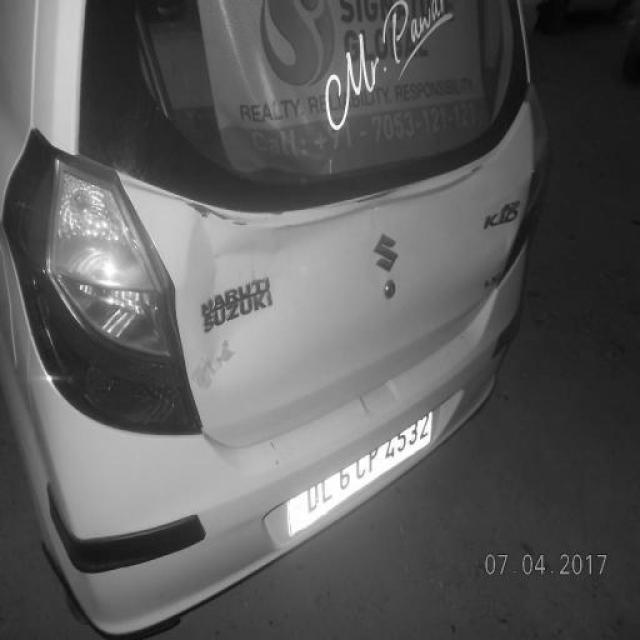dent: (185, 219, 303, 388)
scratch: (123, 165, 491, 235)
